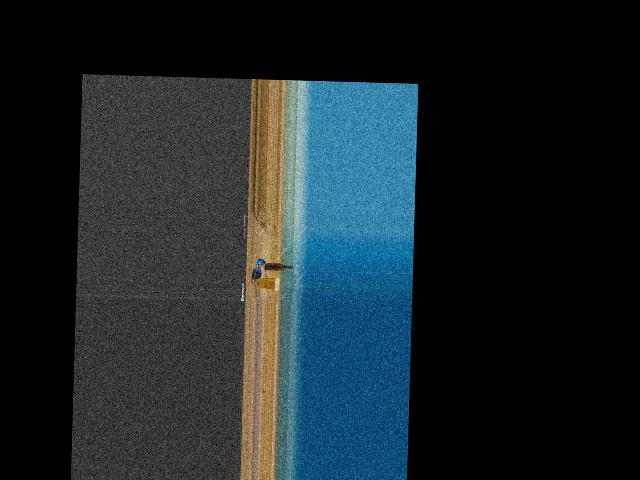beer: (264, 262, 292, 270)
